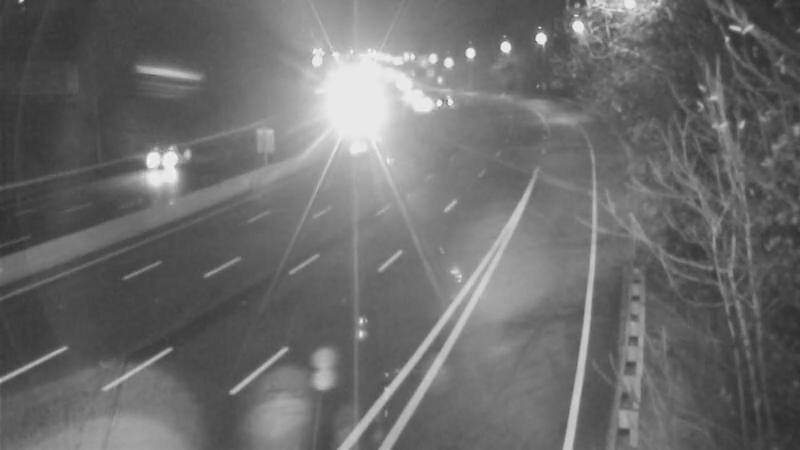vehicle: (112, 115, 192, 195), (387, 71, 437, 121), (421, 74, 471, 124), (400, 82, 450, 132)
